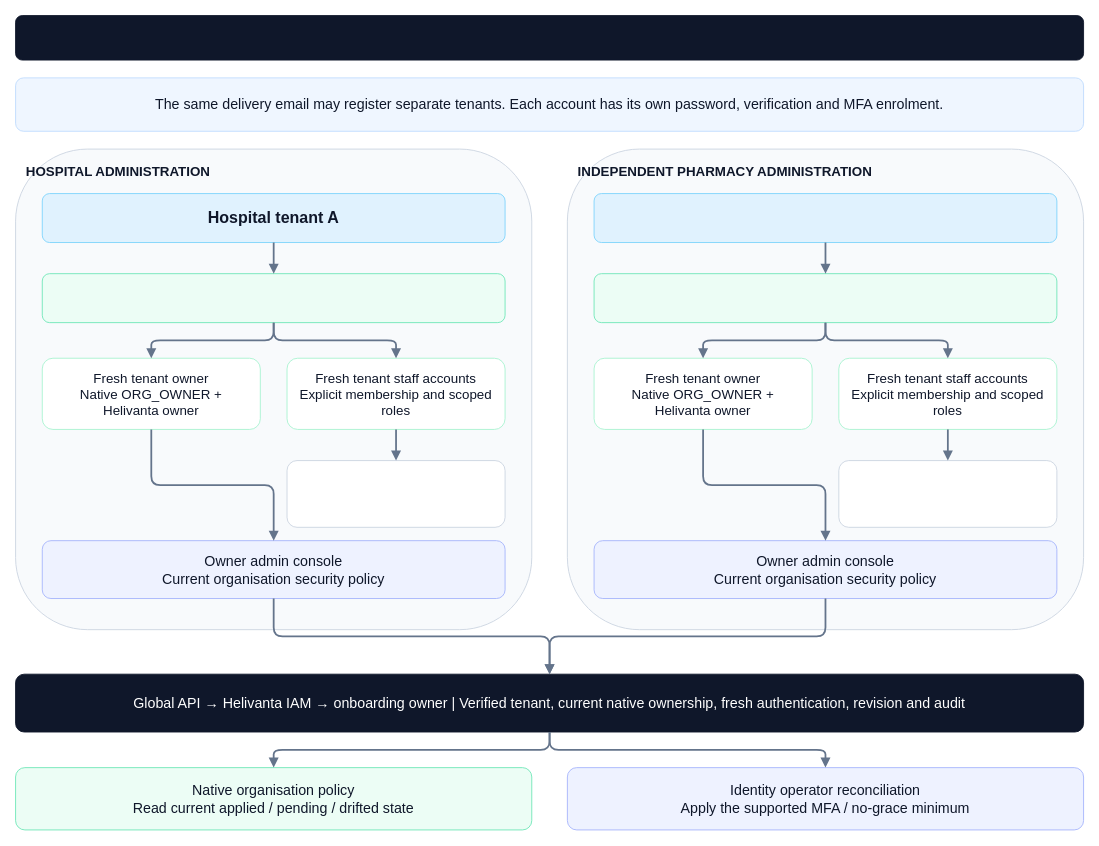
Some shapes in this 1099 by 846 pixel diagram are drawn without their labels. Here are the shapes that lost their labels. From the top down, the centre of each, then its label:
point 549,37: Helivanta | Tenant-owned identity and administration
point 825,218: Independent pharmacy tenant B
point 273,298: Zitadel organisation: helivanta-A
point 825,298: Zitadel organisation: helivanta-B
point 395,493: Hospital-owned pharmacy Departments and scoped teams
point 947,493: Branches and outlets Pharmacy-owned staff and stock
